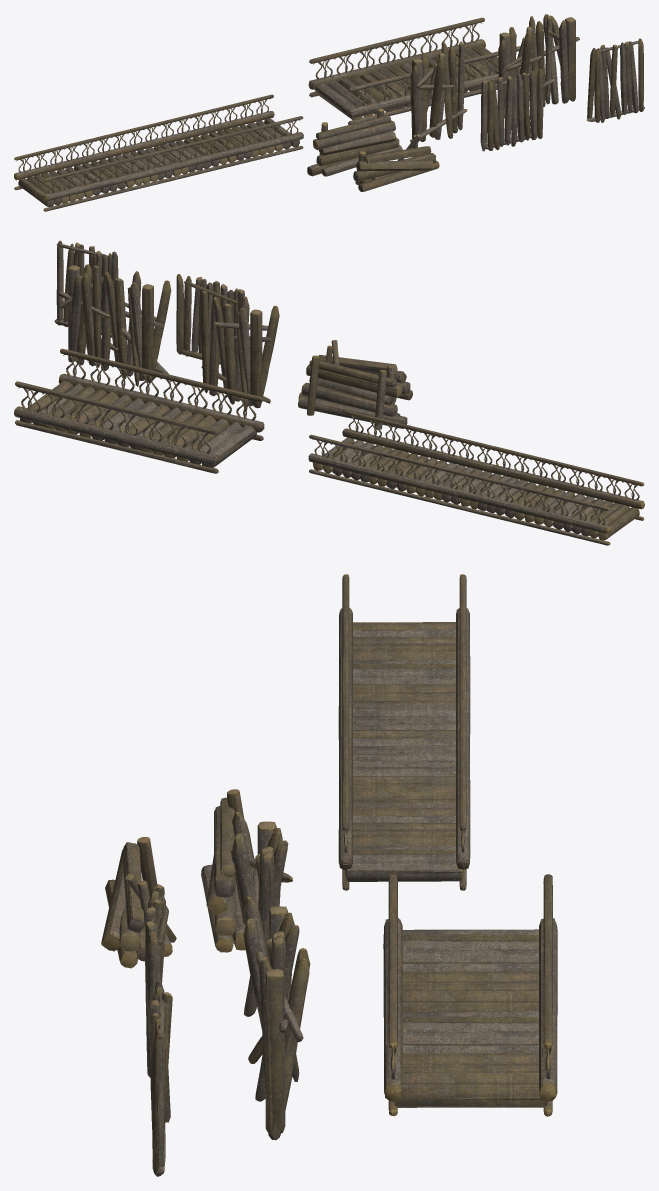
Rendered from Log_Fencing_1A.fbx.
3 renders of one model, top to bottom at view 1: azimuth 30°, elevation 25°; view 2: azimuth 150°, elevation 25°; view 3: azimuth 270°, elevation 25°, orthographic. The views are drawn at different scales.
Visible parts, largest first — view 1: Log_Bridge_1A2, Log_Bridge_1A1, Log_Bridge_1A2.001, Log_Fencing_1A1, Log_Fencing_1B2, Log_Fencing_1B1, Log_Fencing_1A2, Log_Fencing_1C1, Log_Fencing_1A1.001, Log_Bridge_1A2.002, Log_Fencing_1C2, Log_Fencing_1A2.001 (+12 smaller); view 2: Log_Bridge_1A2, Log_Bridge_1A1, Log_Fencing_1A1, Log_Bridge_1A2.001, Log_Bridge_1A1.001, Log_Fencing_1A2, Log_Fencing_1C1, Log_Fencing_1A1.001, Log_Bridge_1A2.002, Log_Fencing_1A2.001, Log_Bridge_1A1.002, Log_Fencing_1B2 (+9 smaller); view 3: Log_Bridge_1A2, Log_Bridge_1A1, Log_Bridge_1A2.001, Log_Fencing_1A1, Log_Bridge_1A1.001, Log_Bridge_1A2.002, Log_Bridge_1A1.002, Log_Fencing_1C2, Log_Fencing_1C1, Log_Fencing_1A2, Log_Fencing_1A1.001, Log_Fencing_1B1 (+8 smaller).
Part boxes in pixels (<box>): Log_Bridge_1A2: <box>14,95,303,211</box>; Log_Bridge_1A1: <box>308,18,520,124</box>; Log_Bridge_1A2.001: <box>15,94,303,211</box>; Log_Fencing_1A1: <box>495,15,579,117</box>; Log_Fencing_1B2: <box>480,69,543,151</box>; Log_Fencing_1B1: <box>587,38,644,122</box>; Log_Fencing_1A2: <box>408,41,466,142</box>; Log_Fencing_1C1: <box>307,108,401,176</box>; Log_Fencing_1A1.001: <box>495,14,579,116</box>; Log_Bridge_1A2.002: <box>14,95,303,211</box>; Log_Fencing_1C2: <box>353,134,439,191</box>; Log_Fencing_1A2.001: <box>408,42,467,142</box>; Log_Bridge_1A2: <box>308,410,644,544</box>; Log_Bridge_1A1: <box>14,349,264,472</box>; Log_Fencing_1A1: <box>58,264,170,386</box>; Log_Bridge_1A2.001: <box>308,410,644,545</box>; Log_Bridge_1A1.001: <box>14,348,263,473</box>; Log_Fencing_1A2: <box>201,291,279,411</box>; Log_Fencing_1C1: <box>298,355,407,429</box>; Log_Fencing_1A1.001: <box>59,264,170,385</box>; Log_Bridge_1A2.002: <box>309,411,644,545</box>; Log_Fencing_1A2.001: <box>201,291,279,408</box>; Log_Bridge_1A1.002: <box>14,350,263,473</box>; Log_Fencing_1B2: <box>176,274,244,364</box>; Log_Bridge_1A2: <box>339,575,470,890</box>; Log_Bridge_1A1: <box>383,874,557,1116</box>; Log_Bridge_1A2.001: <box>338,574,470,890</box>; Log_Fencing_1A1: <box>244,897,309,1139</box>; Log_Bridge_1A1.001: <box>384,874,557,1116</box>; Log_Bridge_1A2.002: <box>339,575,468,889</box>; Log_Bridge_1A1.002: <box>385,875,556,1115</box>; Log_Fencing_1C2: <box>101,837,176,967</box>; Log_Fencing_1C1: <box>201,789,245,952</box>; Log_Fencing_1A2: <box>232,812,292,1016</box>; Log_Fencing_1A1.001: <box>244,897,309,1140</box>; Log_Fencing_1B1: <box>150,980,172,1176</box>.
Size of the model in its own units: 4374 by 708 by 1558.
